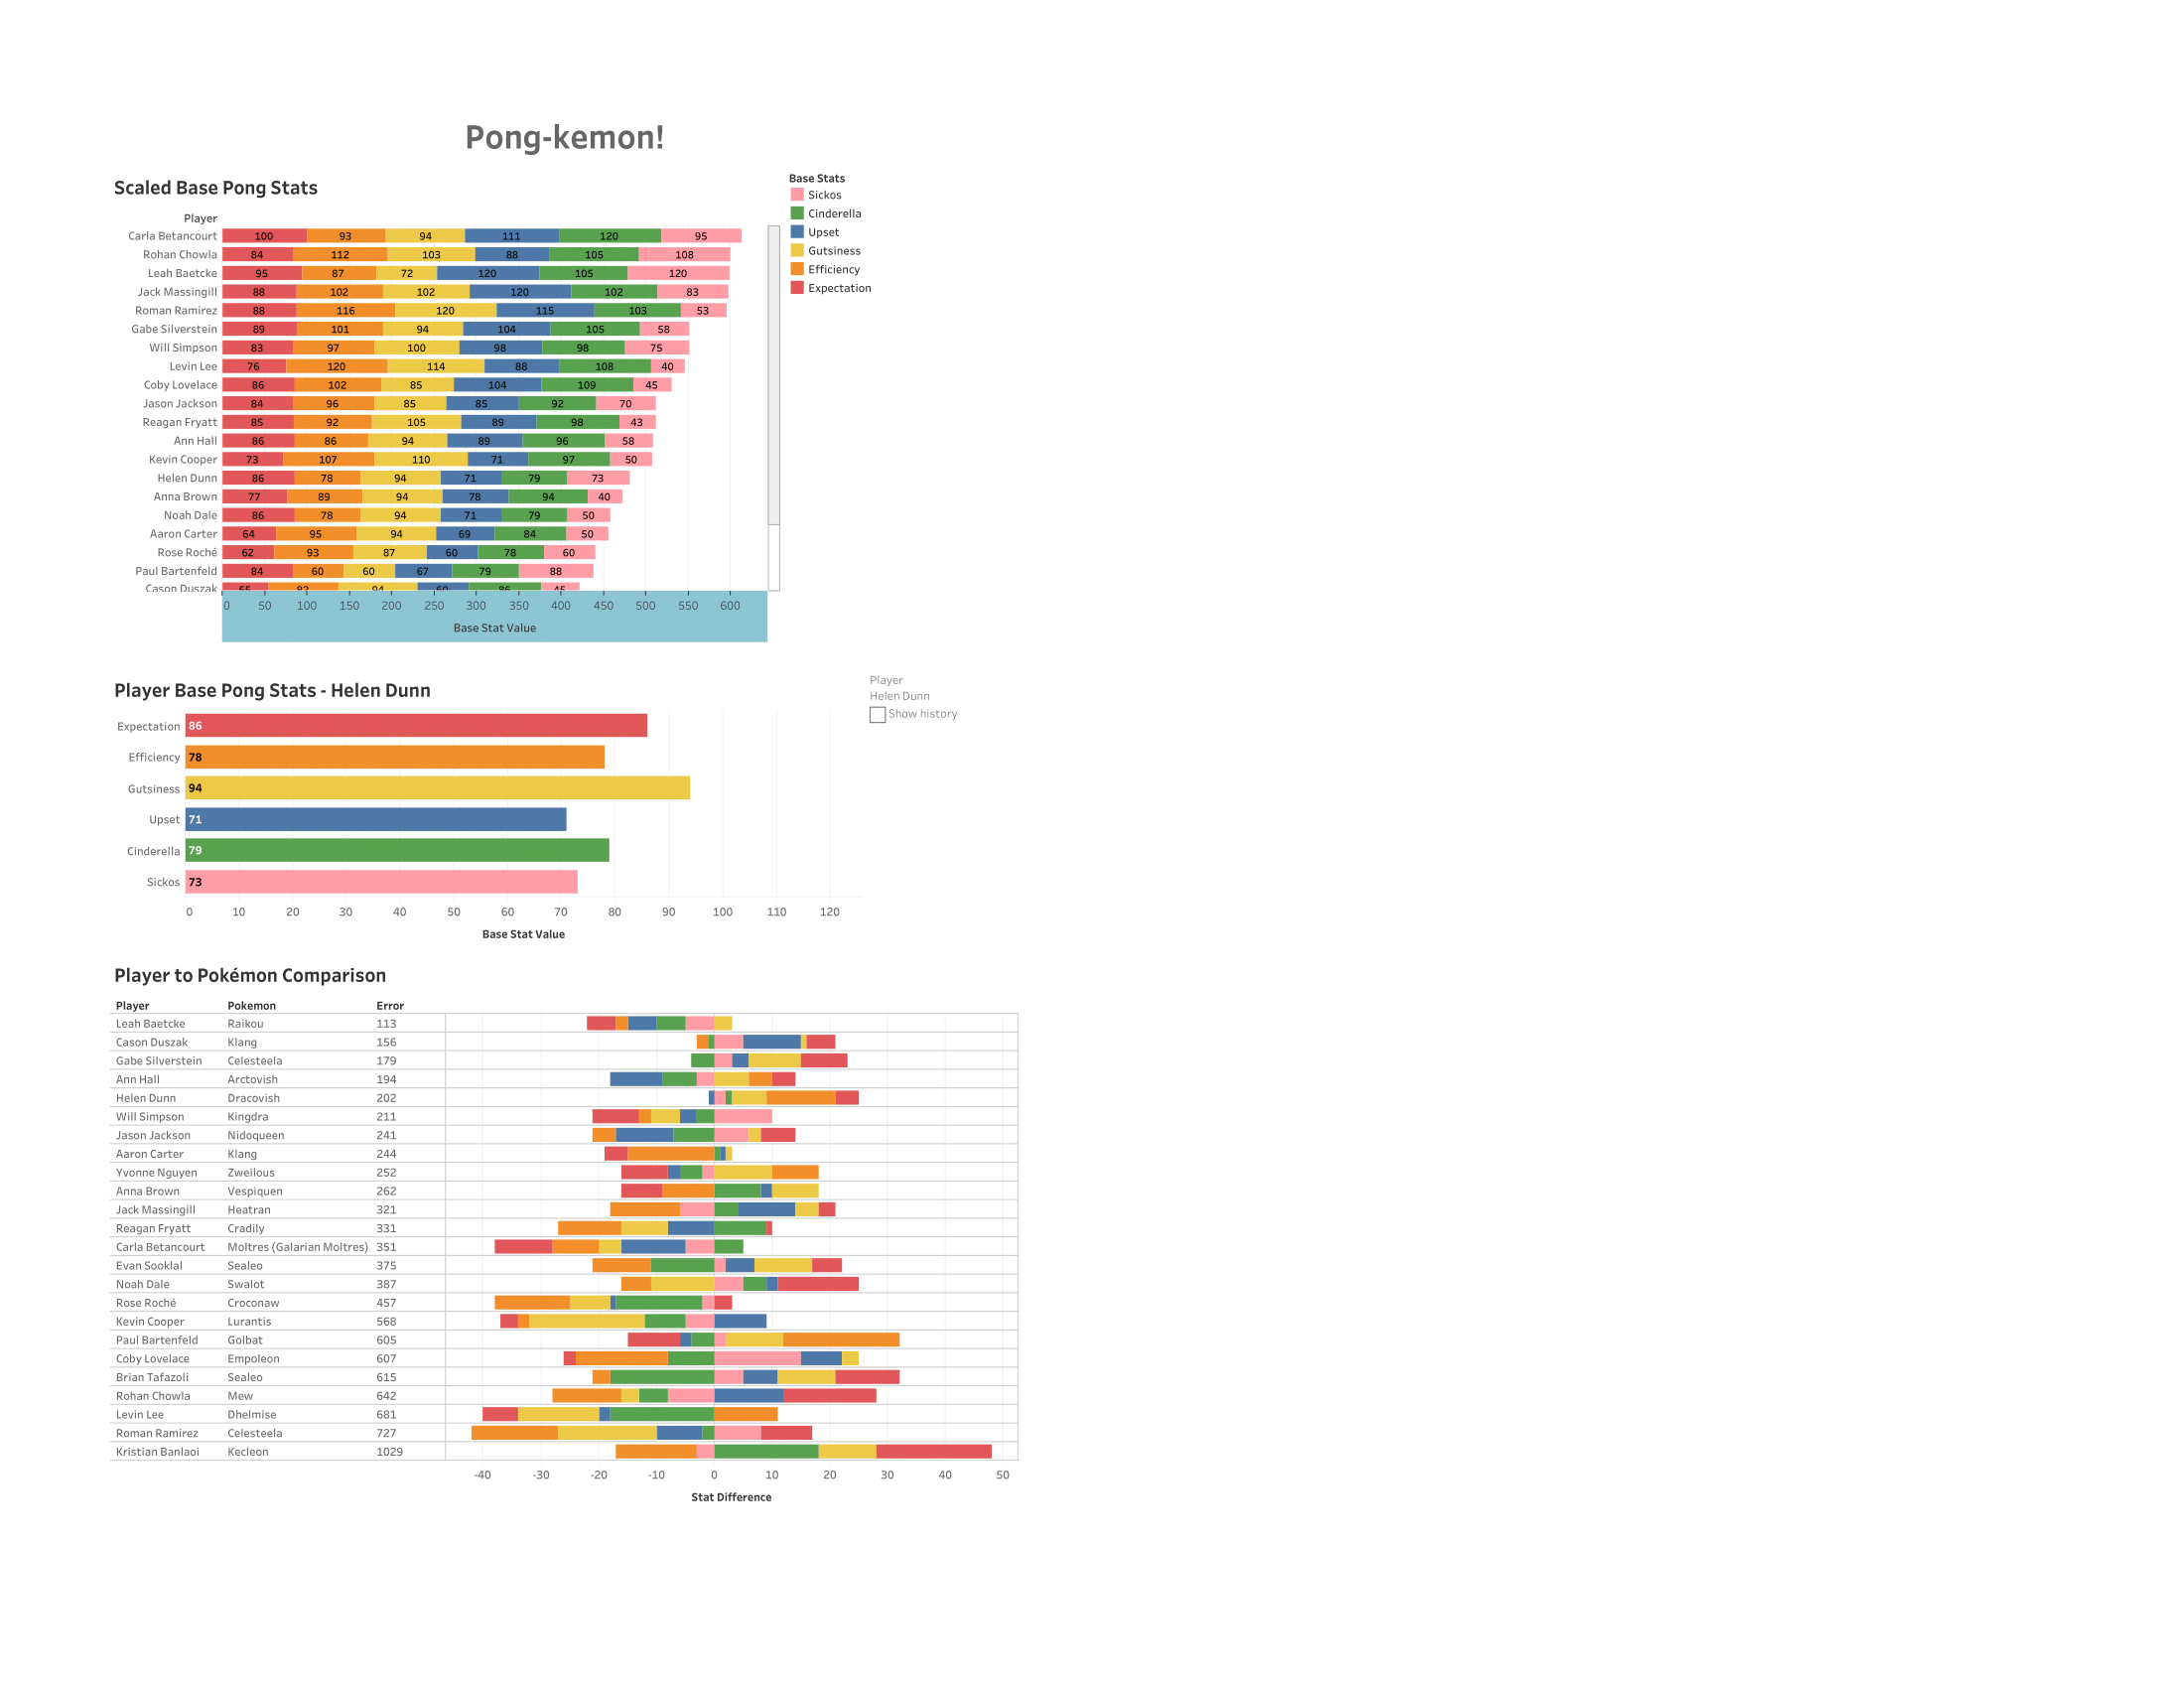

This screenshot's page, from the dashboard's own definition file:
{"tool":"tableau","page":{"name":"Pongkemon","canvas":[1000,1600],"ordinal":1},"visuals":[{"type":"text","box":[8,8,984,62]},{"type":"worksheet","title":"Scaled Base Pong Stats","mark":"Automatic","rows":["player"],"box":[8,70,728,517]},{"type":"legend","title":"Scaled Base Pong Stats","param":"[federated.16mdugv1dzrxhf10gpcw01bck3ma].[:Measure Names]","box":[736,70,256,517]},{"type":"worksheet","title":"Player Base Pong Stats","mark":"Automatic","box":[8,610,816,306]},{"type":"currpage","title":"Player Base Pong Stats","box":[824,610,168,306]},{"type":"worksheet","title":"Player to Pokémon Comparison","mark":"Automatic","rows":["player","pokemon","SSE (copy)_886083278080835596"],"box":[8,916,984,676]}]}

Visuals, with their boxes on the page's 1000x1600 design canvas (x1, y1, x2, y2). These are canvas units, not pixel positions in the 2184x1688 screenshot, which may show the page scaled, cropped or inside an application window:
text: (x1=8, y1=8, x2=992, y2=70)
"Scaled Base Pong Stats" worksheet: (x1=8, y1=70, x2=736, y2=587)
"Scaled Base Pong Stats" legend: (x1=736, y1=70, x2=992, y2=587)
"Player Base Pong Stats" worksheet: (x1=8, y1=610, x2=824, y2=916)
"Player Base Pong Stats" currpage: (x1=824, y1=610, x2=992, y2=916)
"Player to Pokémon Comparison" worksheet: (x1=8, y1=916, x2=992, y2=1592)
